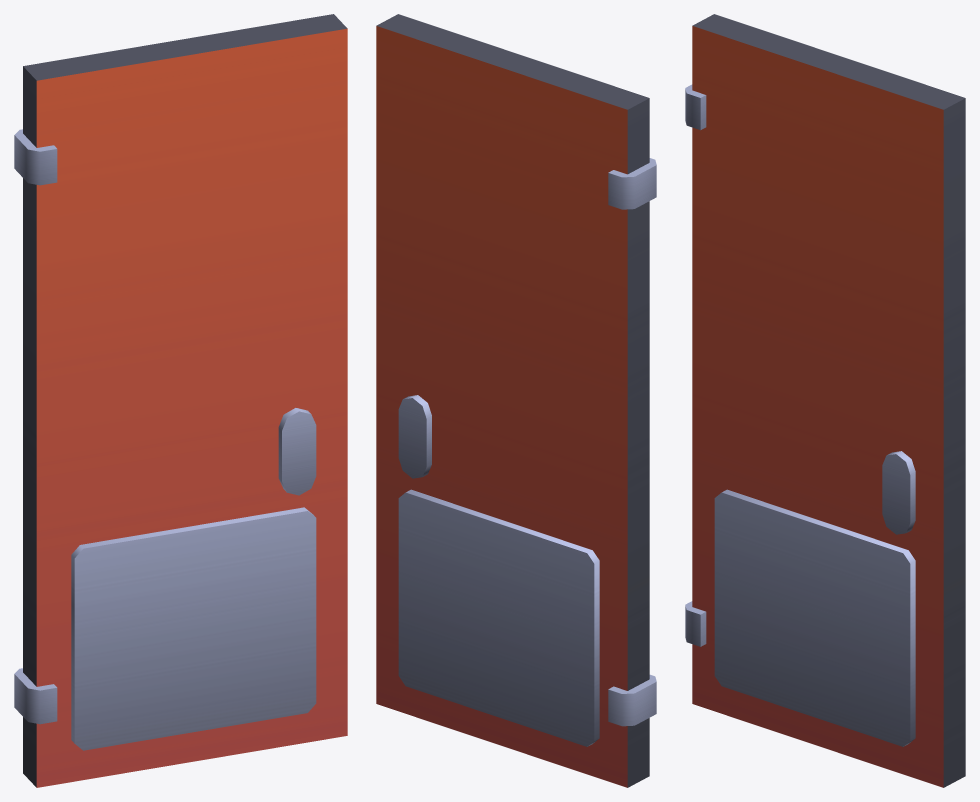
The model's file is red-door-3d.glb.
The picture shows the model from 3 angles, left to right: view 1: azimuth 30°, elevation 25°; view 2: azimuth 150°, elevation 25°; view 3: azimuth 330°, elevation 25°; orthographic projection. The views are drawn at different scales.
Visible parts, largest first — view 1: door; view 2: door; view 3: door.
Boxes of the visible parts, x1=… form: door: x1=14, y1=14, x2=347, y2=787; door: x1=376, y1=14, x2=656, y2=787; door: x1=685, y1=14, x2=965, y2=787.
Size of the model in its own units: 0.9297 by 2.1 by 0.2646.
Materials: 1 (1 with a texture image).
